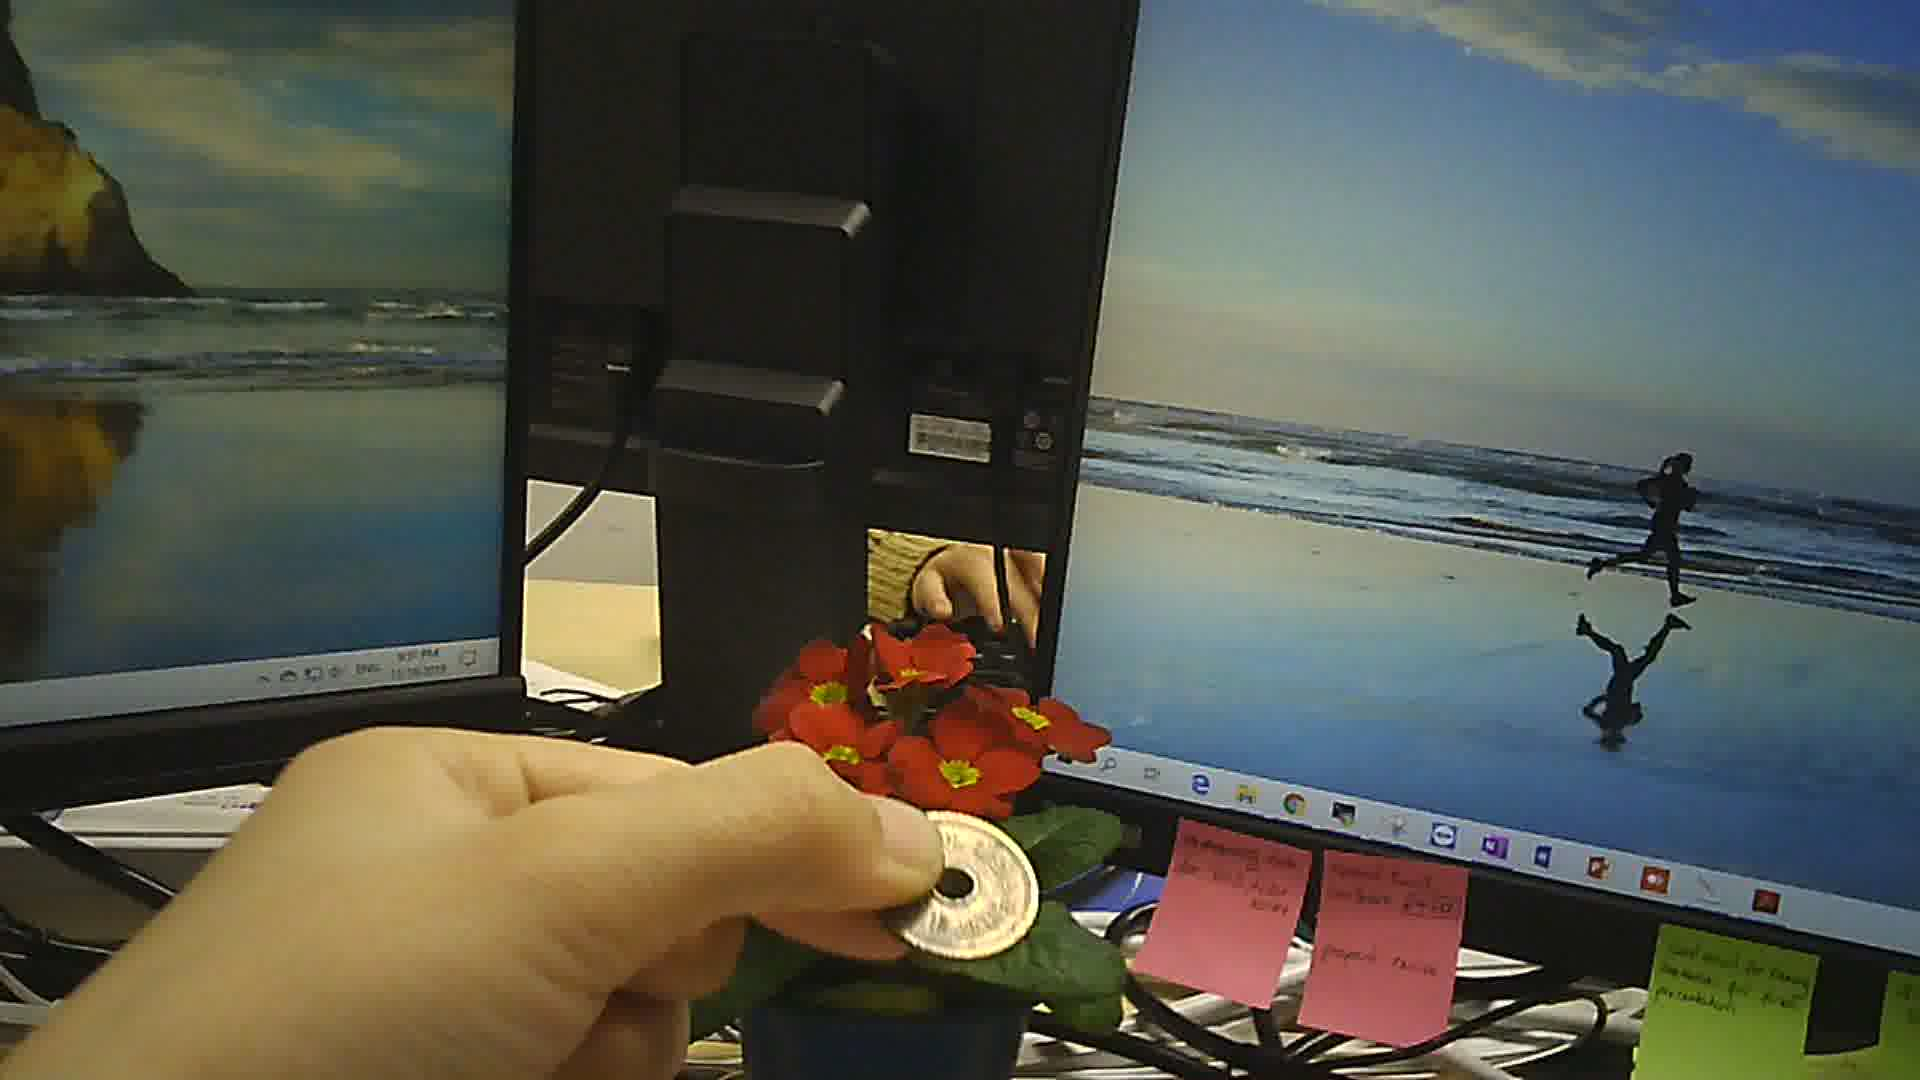5 Yen: (873, 799, 1040, 963)
